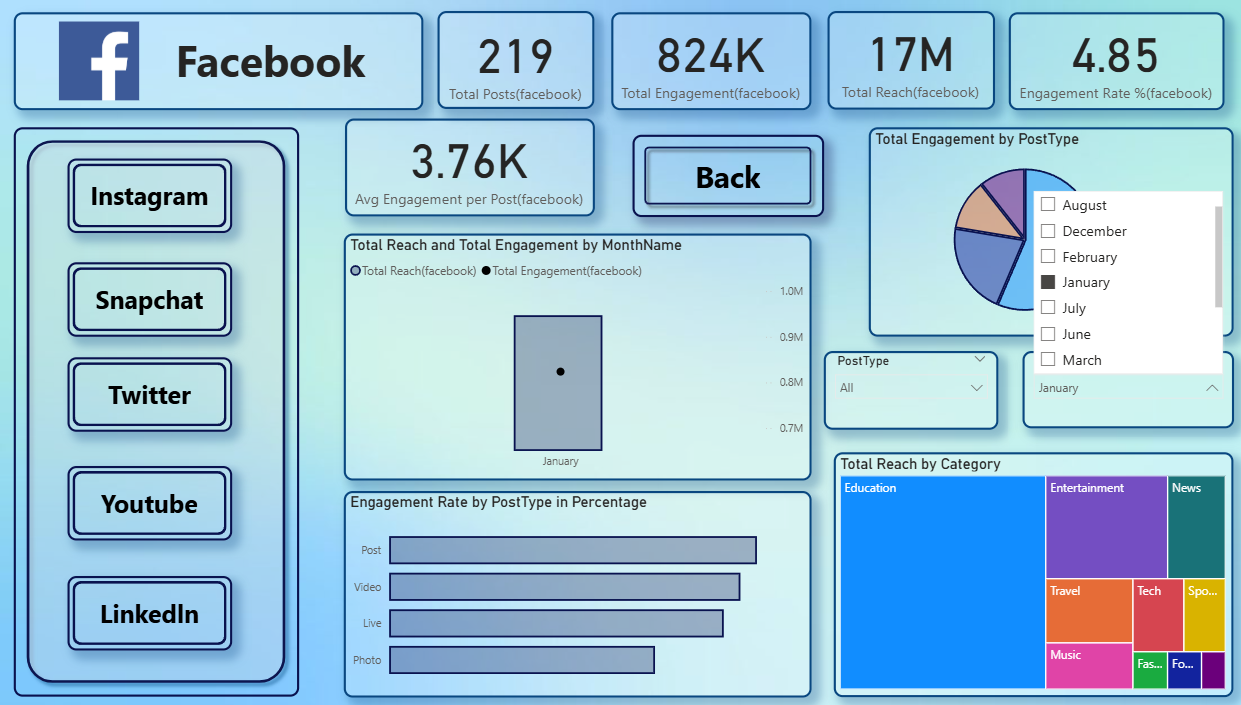

What the dashboard file says about the page in this screenshot:
{"tool":"powerbi","page":{"name":"Facebook","canvas":[1400,800],"ordinal":2},"visuals":[{"type":"textbox","box":[15.7,18.6,461.4,110],"z":0},{"type":"image","box":[0,24.3,222.9,98.6],"z":1000},{"type":"card","fields":{"Values":["Facebook_Data.Avg Engagement per Post(facebook)"]},"box":[388.6,138.6,281.4,110],"z":2000},{"type":"card","fields":{"Values":["Facebook_Data.Engagement Rate %(facebook)"]},"box":[1137.1,18.6,242.9,110],"z":3000},{"type":"card","fields":{"Values":["Facebook_Data.Total Engagement(facebook)"]},"box":[688.6,18.6,225.7,110],"z":4000},{"type":"card","fields":{"Values":["Facebook_Data.Total Posts(facebook)"]},"box":[492.9,17.1,177.1,110],"z":5000},{"type":"card","fields":{"Values":["Facebook_Data.Total Reach(facebook)"]},"box":[932.9,17.1,188.6,111.4],"z":6000},{"type":"lineClusteredColumnComboChart","title":"Total Reach and Total Engagement by MonthName","fields":{"Category":["Facebook_Data.MonthName"],"Y":["Facebook_Data.Total Reach(facebook)"],"Y2":["Facebook_Data.Total Engagement(facebook)"]},"box":[387.1,267.1,527.1,278.6],"z":7000},{"type":"pieChart","title":"Total Engagement by PostType","fields":{"Y":["Facebook_Data.Total Engagement(facebook)"],"Category":["Facebook_Data.PostType"]},"box":[978.6,148.6,411.4,235.7],"z":8000},{"type":"treemap","title":"Total Reach by Category","fields":{"Group":["Facebook_Data.Category"],"Values":["Facebook_Data.Total Reach(facebook)"]},"box":[940,514.3,450,275.7],"z":9000},{"type":"slicer","fields":{"Values":["Facebook_Data.MonthName"]},"box":[1151.4,400,238.6,87.1],"z":10000},{"type":"barChart","title":"Engagement Rate by PostType in Percentage","fields":{"Category":["Facebook_Data.PostType"],"Y":["Facebook_Data.Engagement Rate %(facebook)"]},"box":[387.1,557.1,527.1,232.9],"z":11000},{"type":"slicer","fields":{"Values":["Facebook_Data.PostType"]},"box":[928.6,400,197.1,88.6],"z":12000},{"type":"actionButton","box":[712.9,155.7,215.7,92.9],"z":13000},{"type":"shape","box":[15.7,148.6,321.4,641.4],"z":14000},{"type":"actionButton","box":[75.7,182.9,185.7,84.3],"z":15000},{"type":"actionButton","box":[75.7,407.1,185.7,84.3],"z":16000},{"type":"actionButton","box":[75.7,530,185.7,84.3],"z":17000},{"type":"actionButton","box":[75.7,652.9,185.7,84.3],"z":18000},{"type":"actionButton","box":[75.7,300,185.7,84.3],"z":19000}]}

Visuals, with their boxes in screenshot pixels (x1, y1, x2, y2), scaled from the page's 1400x800 canvas onto the 1241x705 screenshot:
textbox: bbox=[14, 16, 423, 113]
image: bbox=[0, 21, 198, 108]
card - Facebook_Data.Avg Engagement per Post(facebook): bbox=[344, 122, 594, 219]
card - Facebook_Data.Engagement Rate %(facebook): bbox=[1008, 16, 1223, 113]
card - Facebook_Data.Total Engagement(facebook): bbox=[610, 16, 810, 113]
card - Facebook_Data.Total Posts(facebook): bbox=[437, 15, 594, 112]
card - Facebook_Data.Total Reach(facebook): bbox=[827, 15, 994, 113]
"Total Reach and Total Engagement by MonthName" lineClusteredColumnComboChart: bbox=[343, 235, 810, 481]
"Total Engagement by PostType" pieChart: bbox=[867, 131, 1232, 339]
"Total Reach by Category" treemap: bbox=[833, 453, 1232, 696]
slicer - Facebook_Data.MonthName: bbox=[1021, 352, 1232, 429]
"Engagement Rate by PostType in Percentage" barChart: bbox=[343, 491, 810, 696]
slicer - Facebook_Data.PostType: bbox=[823, 352, 998, 431]
actionButton: bbox=[632, 137, 823, 219]
shape: bbox=[14, 131, 299, 696]
actionButton: bbox=[67, 161, 232, 235]
actionButton: bbox=[67, 359, 232, 433]
actionButton: bbox=[67, 467, 232, 541]
actionButton: bbox=[67, 575, 232, 650]
actionButton: bbox=[67, 264, 232, 339]
